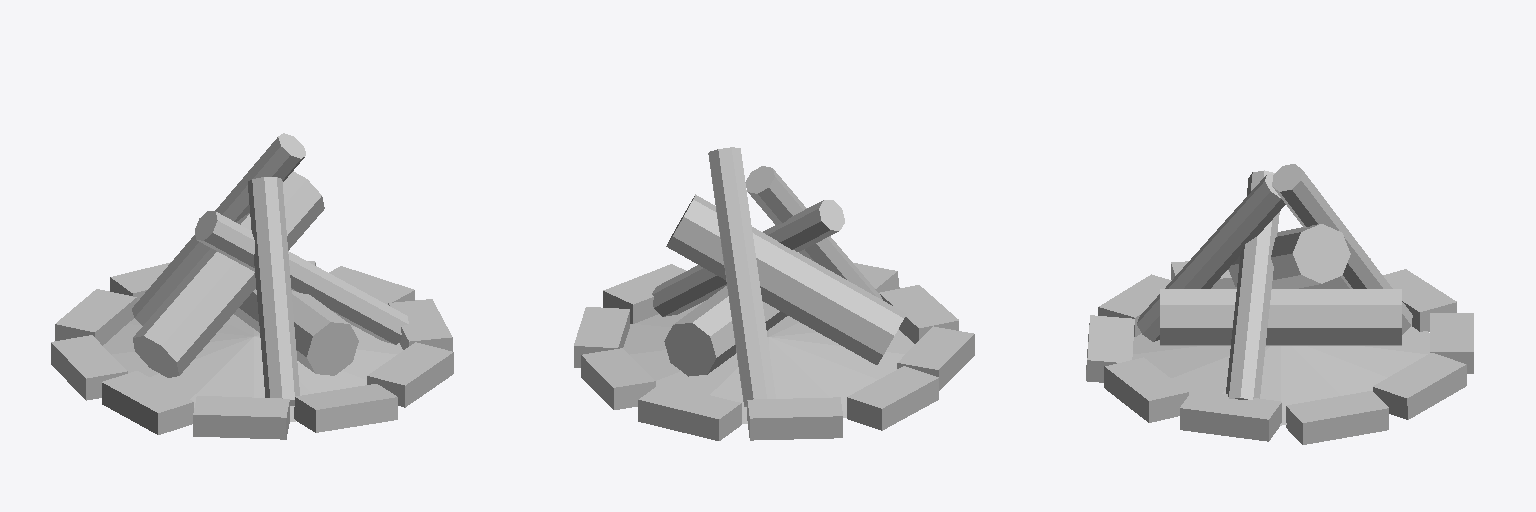
Rendered from Fireplace.obj.
3 renders of one model, left to right at view 1: azimuth 30°, elevation 25°; view 2: azimuth 150°, elevation 25°; view 3: azimuth 270°, elevation 25°, orthographic.
Visible parts, largest first — view 1: Cylinder.001, Cube.001, Circle; view 2: Cylinder.001, Cube.001, Circle; view 3: Cylinder.001, Cube.001, Circle.
Part boxes in pixels (x1,y1,x2,y2): Cylinder.001: (132, 133, 408, 405); Cube.001: (51, 261, 453, 439); Circle: (103, 314, 403, 421); Cylinder.001: (652, 147, 905, 406); Cube.001: (574, 263, 974, 440); Circle: (623, 301, 914, 423); Cylinder.001: (1137, 164, 1412, 399); Cube.001: (1086, 258, 1473, 444); Circle: (1132, 326, 1429, 425).
Size of the model in its own units: 1.05 by 0.6301 by 1.04.